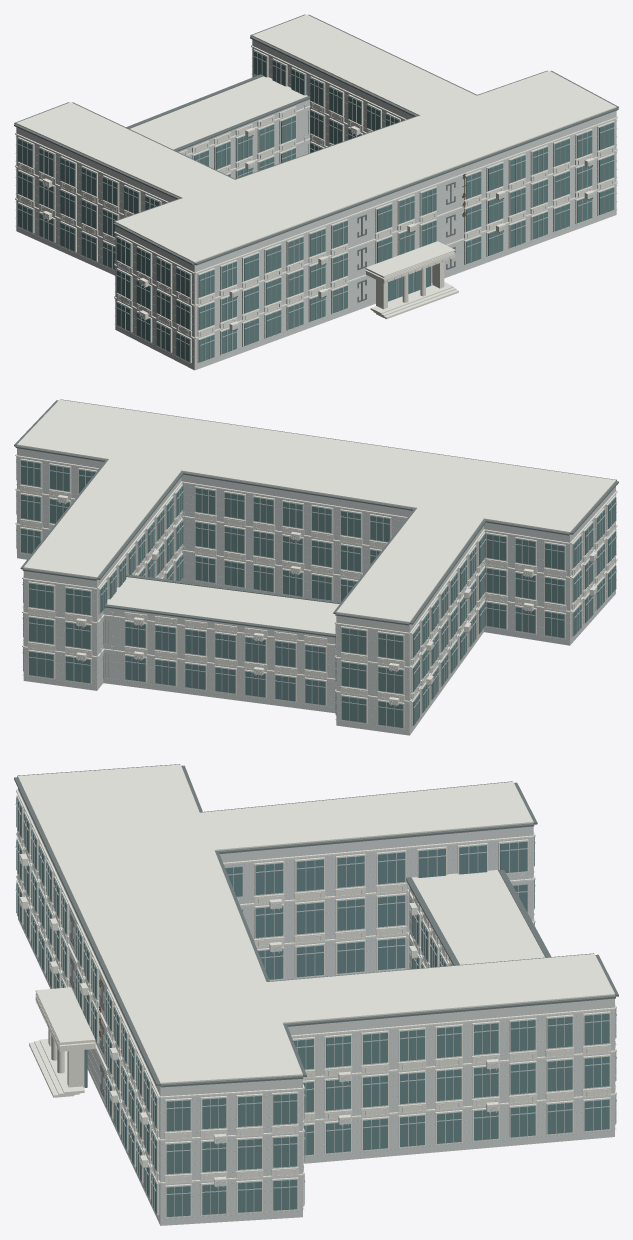
3 renders of one model, top to bottom at view 1: azimuth 30°, elevation 25°; view 2: azimuth 150°, elevation 25°; view 3: azimuth 270°, elevation 25°, orthographic. The views are drawn at different scales.
Parts seen in each view (by area): view 1: 46 乳白浮雕与窗套, 46 灰绿窗玻璃, 46 一教浅灰粉刷, 46 铝合金窗框, 46 深灰檐边; view 2: 46 乳白浮雕与窗套, 46 灰绿窗玻璃, 46 一教浅灰粉刷, 46 铝合金窗框, 46 深灰檐边; view 3: 46 乳白浮雕与窗套, 46 灰绿窗玻璃, 46 一教浅灰粉刷, 46 铝合金窗框, 46 深灰檐边.
Part boxes in pixels (x1=…): 46 乳白浮雕与窗套: x1=15, y1=14, x2=617, y2=363; 46 灰绿窗玻璃: x1=18, y1=51, x2=614, y2=362; 46 一教浅灰粉刷: x1=16, y1=39, x2=616, y2=370; 46 铝合金窗框: x1=15, y1=49, x2=617, y2=365; 46 深灰檐边: x1=14, y1=14, x2=618, y2=302; 46 乳白浮雕与窗套: x1=15, y1=399, x2=617, y2=728; 46 灰绿窗玻璃: x1=16, y1=457, x2=616, y2=727; 46 一教浅灰粉刷: x1=17, y1=448, x2=615, y2=735; 46 铝合金窗框: x1=16, y1=458, x2=616, y2=730; 46 深灰檐边: x1=14, y1=399, x2=618, y2=637; 46 乳白浮雕与窗套: x1=16, y1=764, x2=616, y2=1217; 46 灰绿窗玻璃: x1=16, y1=797, x2=616, y2=1216; 46 一教浅灰粉刷: x1=17, y1=788, x2=614, y2=1225; 46 铝合金窗框: x1=15, y1=800, x2=616, y2=1219; 46 深灰檐边: x1=14, y1=764, x2=618, y2=1096.
Size of the model in its own units: 53.83 by 11.16 by 42.79.
